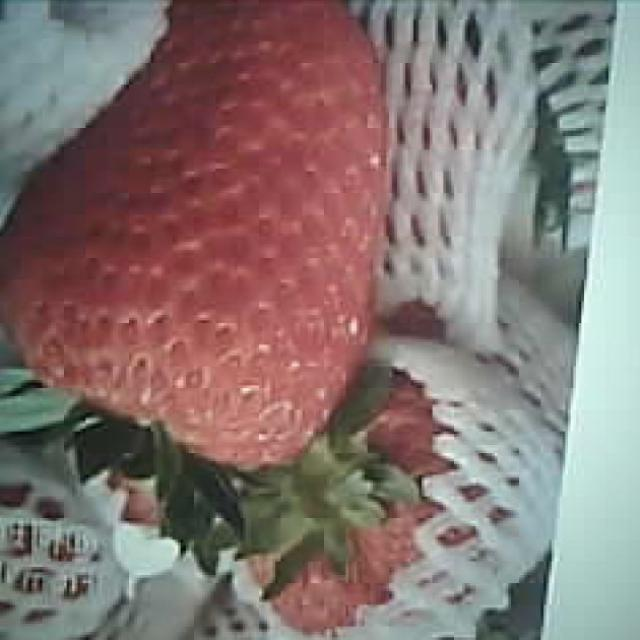Healthy Fruit: (1, 0, 392, 471)
